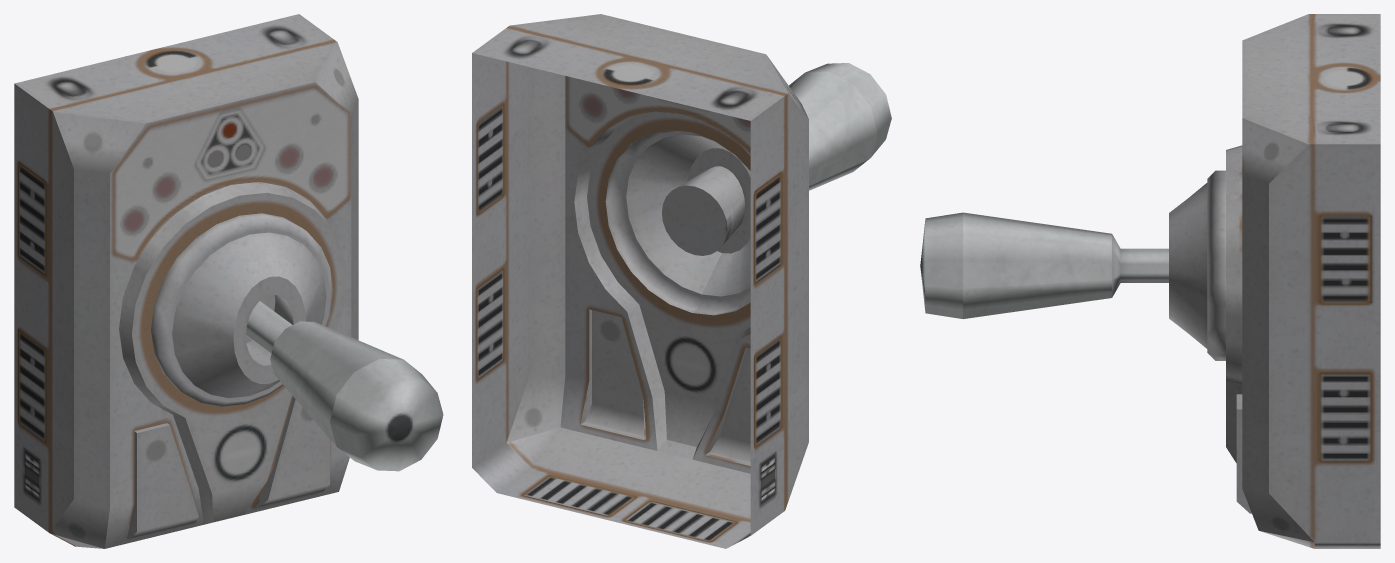
File: Lever A1H.fbx
3 views of the same model, side by side, from view 1: azimuth 30°, elevation 25°; view 2: azimuth 150°, elevation 25°; view 3: azimuth 270°, elevation 25° (orthographic). The views are drawn at different scales.
Visible parts, largest first — view 1: Lever A1H, LeverHandle A1H; view 2: Lever A1H, LeverHandle A1H; view 3: Lever A1H, LeverHandle A1H.
Boxes of the visible parts, x1,y1,x2,y2 form: Lever A1H: [14, 14, 358, 548]; LeverHandle A1H: [246, 301, 443, 471]; Lever A1H: [472, 14, 808, 548]; LeverHandle A1H: [789, 63, 891, 190]; Lever A1H: [1169, 14, 1380, 548]; LeverHandle A1H: [920, 212, 1168, 318].
Bounding box in the file's own units: 13.77 × 20.49 × 20.54.
3 materials, 1 textured.
